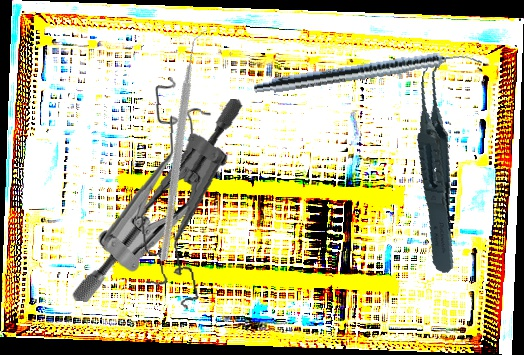Chopper: (82, 27, 291, 263)
Handpiece: (252, 44, 483, 101)
Speculum: (70, 74, 215, 306), (123, 97, 268, 315)
Tissue Forceps: (389, 53, 490, 275)
